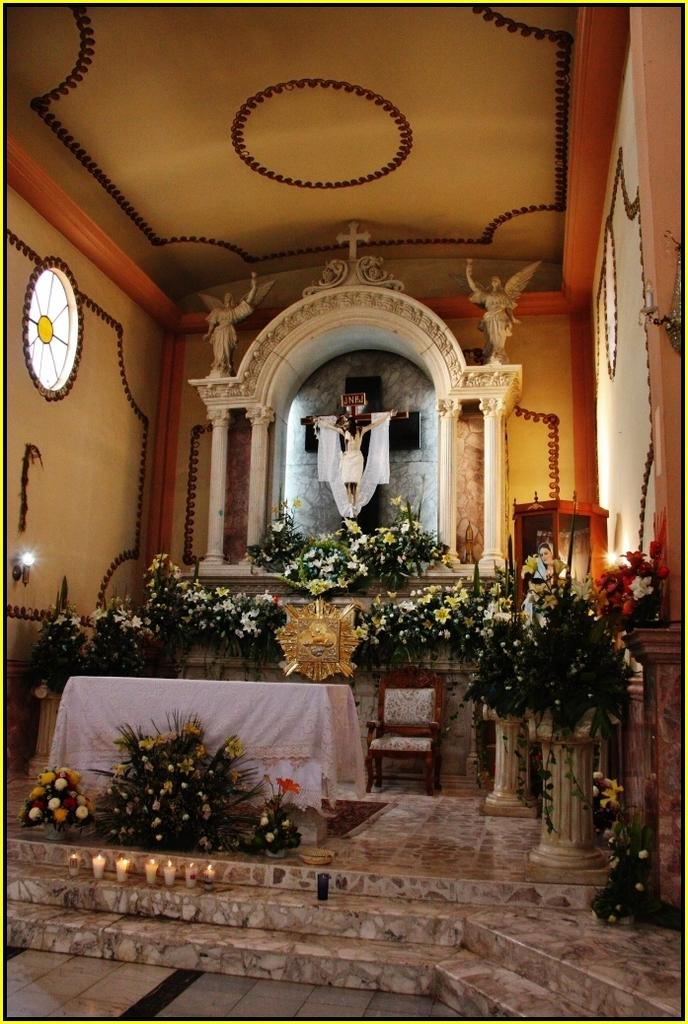Chair: (366, 660, 442, 797)
